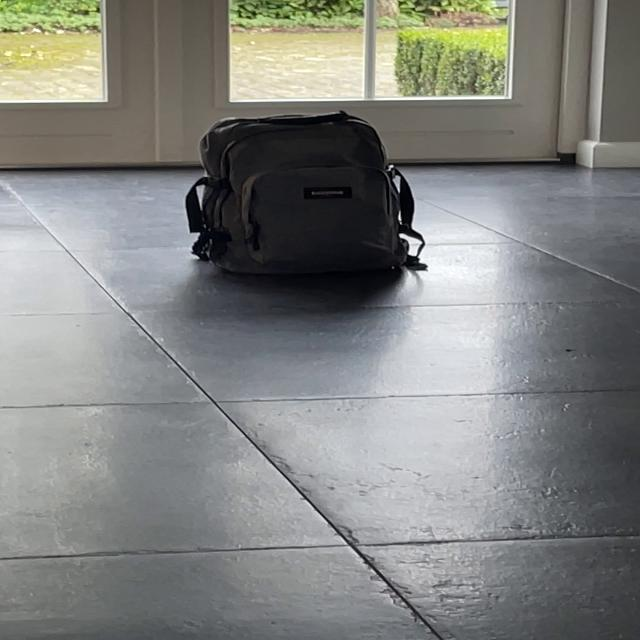backpack: (174, 104, 428, 286)
